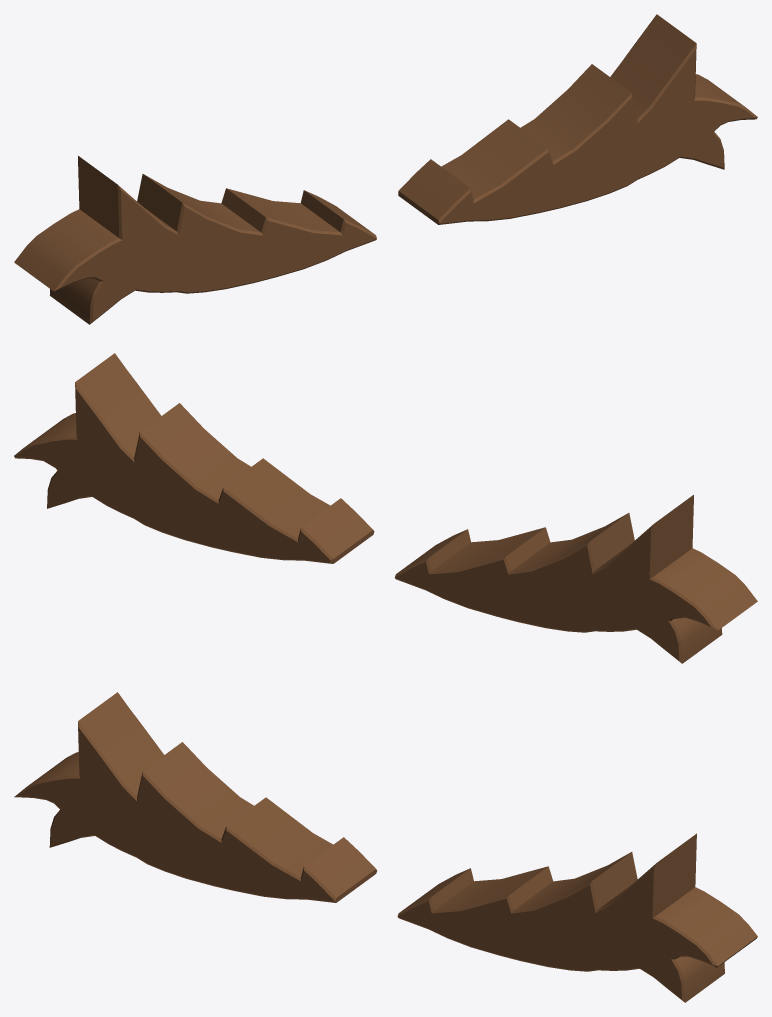
File: mustache.fbx
3 views of the same model, one above another, from view 1: azimuth 30°, elevation 25°; view 2: azimuth 150°, elevation 25°; view 3: azimuth 330°, elevation 25° (orthographic).
Visible parts, largest first — view 1: Mustache_Left, Mustache_Right; view 2: Mustache_Left, Mustache_Right; view 3: Mustache_Right, Mustache_Left.
Part boxes in pixels (x1=…): Mustache_Left: x1=398, y1=14, x2=757, y2=224; Mustache_Right: x1=14, y1=156, x2=376, y2=324; Mustache_Left: x1=14, y1=353, x2=374, y2=563; Mustache_Right: x1=394, y1=495, x2=757, y2=663; Mustache_Right: x1=14, y1=692, x2=376, y2=902; Mustache_Left: x1=397, y1=833, x2=757, y2=1002.
Bounding box in the file's own units: 320 × 33.15 × 58.05.
